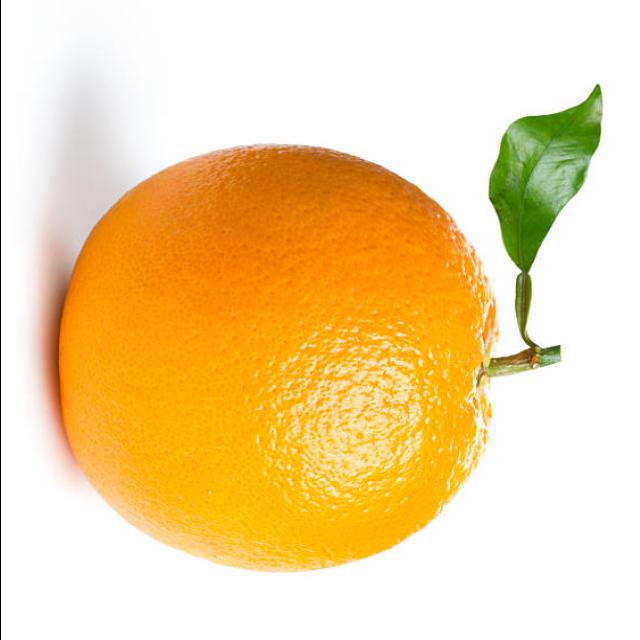orange: (51, 142, 501, 578)
